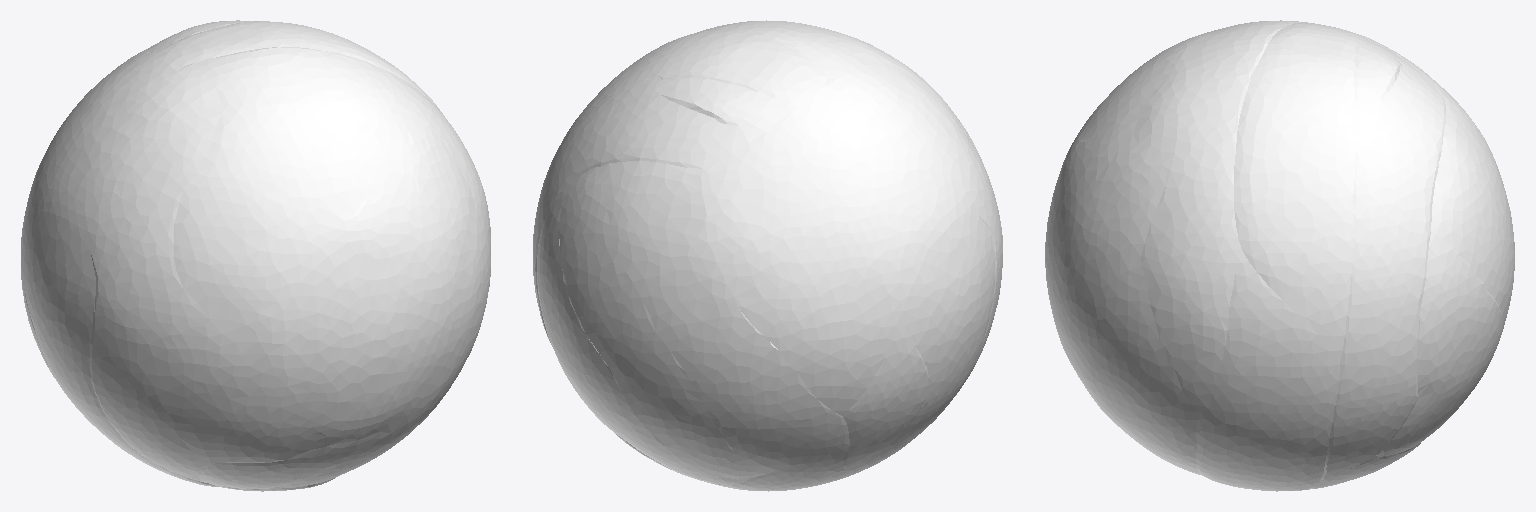
URDF robot description (volley_ball):
<?xml version="1.0" ?>
<robot name="volley_ball">
    <link name="baseLink">
        <contact>
        <friction_anchor/>
        <lateral_friction value="1.5"/>
        <rolling_friction value="0.1"/>
        <spinning_friction value="0.1"/>
        <contact_cfm value="1e-5"/>
        <contact_erp value="0.8"/>
        </contact>
        <visual>
            <origin rpy="0 0 0" xyz="0 0 0"/>
            <geometry>
                <mesh filename="assets/objects/volley_ball/meshes/volley_ball_textured.obj" scale="1 1 1"/>
            </geometry>
            <material name="white">
                <color rgba="1 1 1 1"/>
            </material>
        </visual>
        <collision>
            <origin rpy="0 0 0" xyz="0 0 0"/>
            <geometry>
                <mesh filename="assets/objects/volley_ball/meshes/volley_ball_textured.obj" scale="1 1 1"/>
            </geometry>
        </collision>
        <inertial>
            <origin rpy="0 0 0" xyz="0 0 0"/>
            <mass value="1.0"/>
            <inertia ixx="0.1" ixy="0" ixz="0" iyy="0.1" iyz="0" izz="0.1"/>
        </inertial>
    </link>
</robot>

--- Render facts (derived) ---
3 views of the same robot in one strip: view 1: azimuth 30°, elevation 25°; view 2: azimuth 150°, elevation 25°; view 3: azimuth 270°, elevation 25° (orthographic).
Robot: volley_ball — 1 links, 0 joints (none); root link baseLink; default pose: every joint at zero.
Visible links, largest first — view 1: baseLink; view 2: baseLink; view 3: baseLink.
Boxes of the visible links, box(x1,y1,x2,y2) form: baseLink: box(21, 20, 490, 491); baseLink: box(533, 20, 1002, 491); baseLink: box(1045, 20, 1514, 491).
Size in the robot's own frame: 0.6628 by 0.6626 by 0.6618 metres.
1 mesh visuals loaded from 1 distinct referenced files (1 OBJ).
